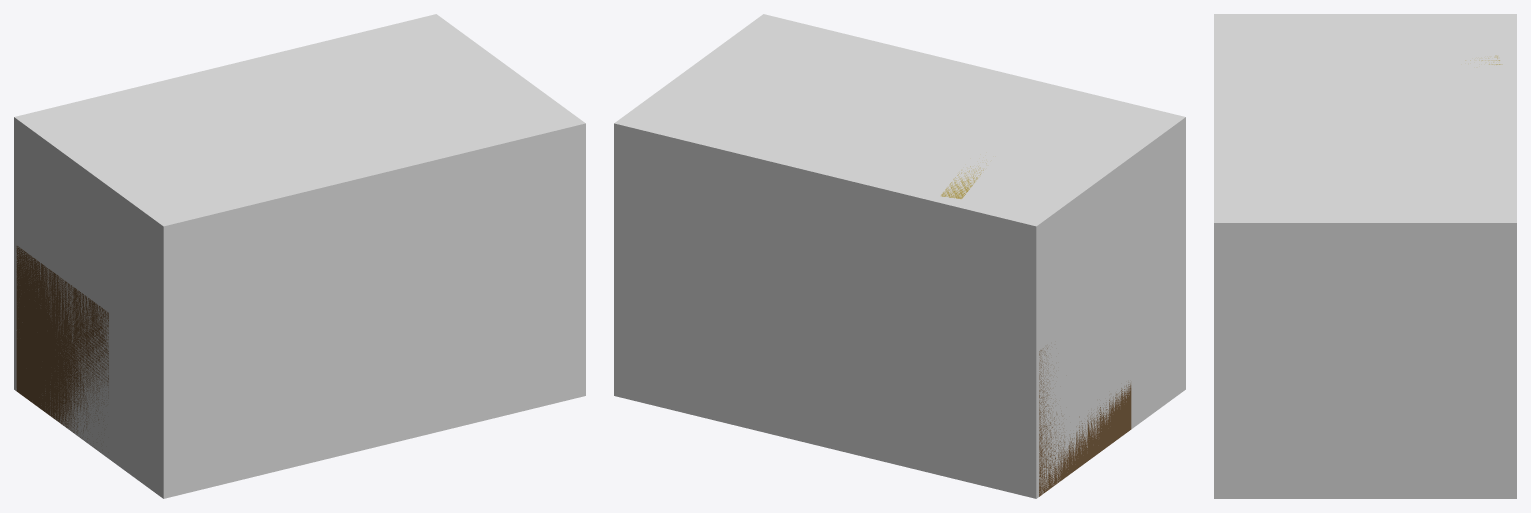
The model's file is Deco_Boxes.glb.
3 renders of one model, left to right at view 1: azimuth 30°, elevation 25°; view 2: azimuth 150°, elevation 25°; view 3: azimuth 270°, elevation 25°, orthographic.
Visible parts, largest first — view 1: Deco_Boxes_COL, Deco_Boxes; view 2: Deco_Boxes_COL, Deco_Boxes; view 3: Deco_Boxes_COL.
Part boxes in pixels (<box>): Deco_Boxes_COL: <box>14,14,585,498</box>; Deco_Boxes: <box>16,246,108,447</box>; Deco_Boxes_COL: <box>614,14,1185,498</box>; Deco_Boxes: <box>941,163,1131,496</box>; Deco_Boxes_COL: <box>1214,14,1516,498</box>.
Size of the model in its own units: 1.06 by 0.652 by 0.6482.
